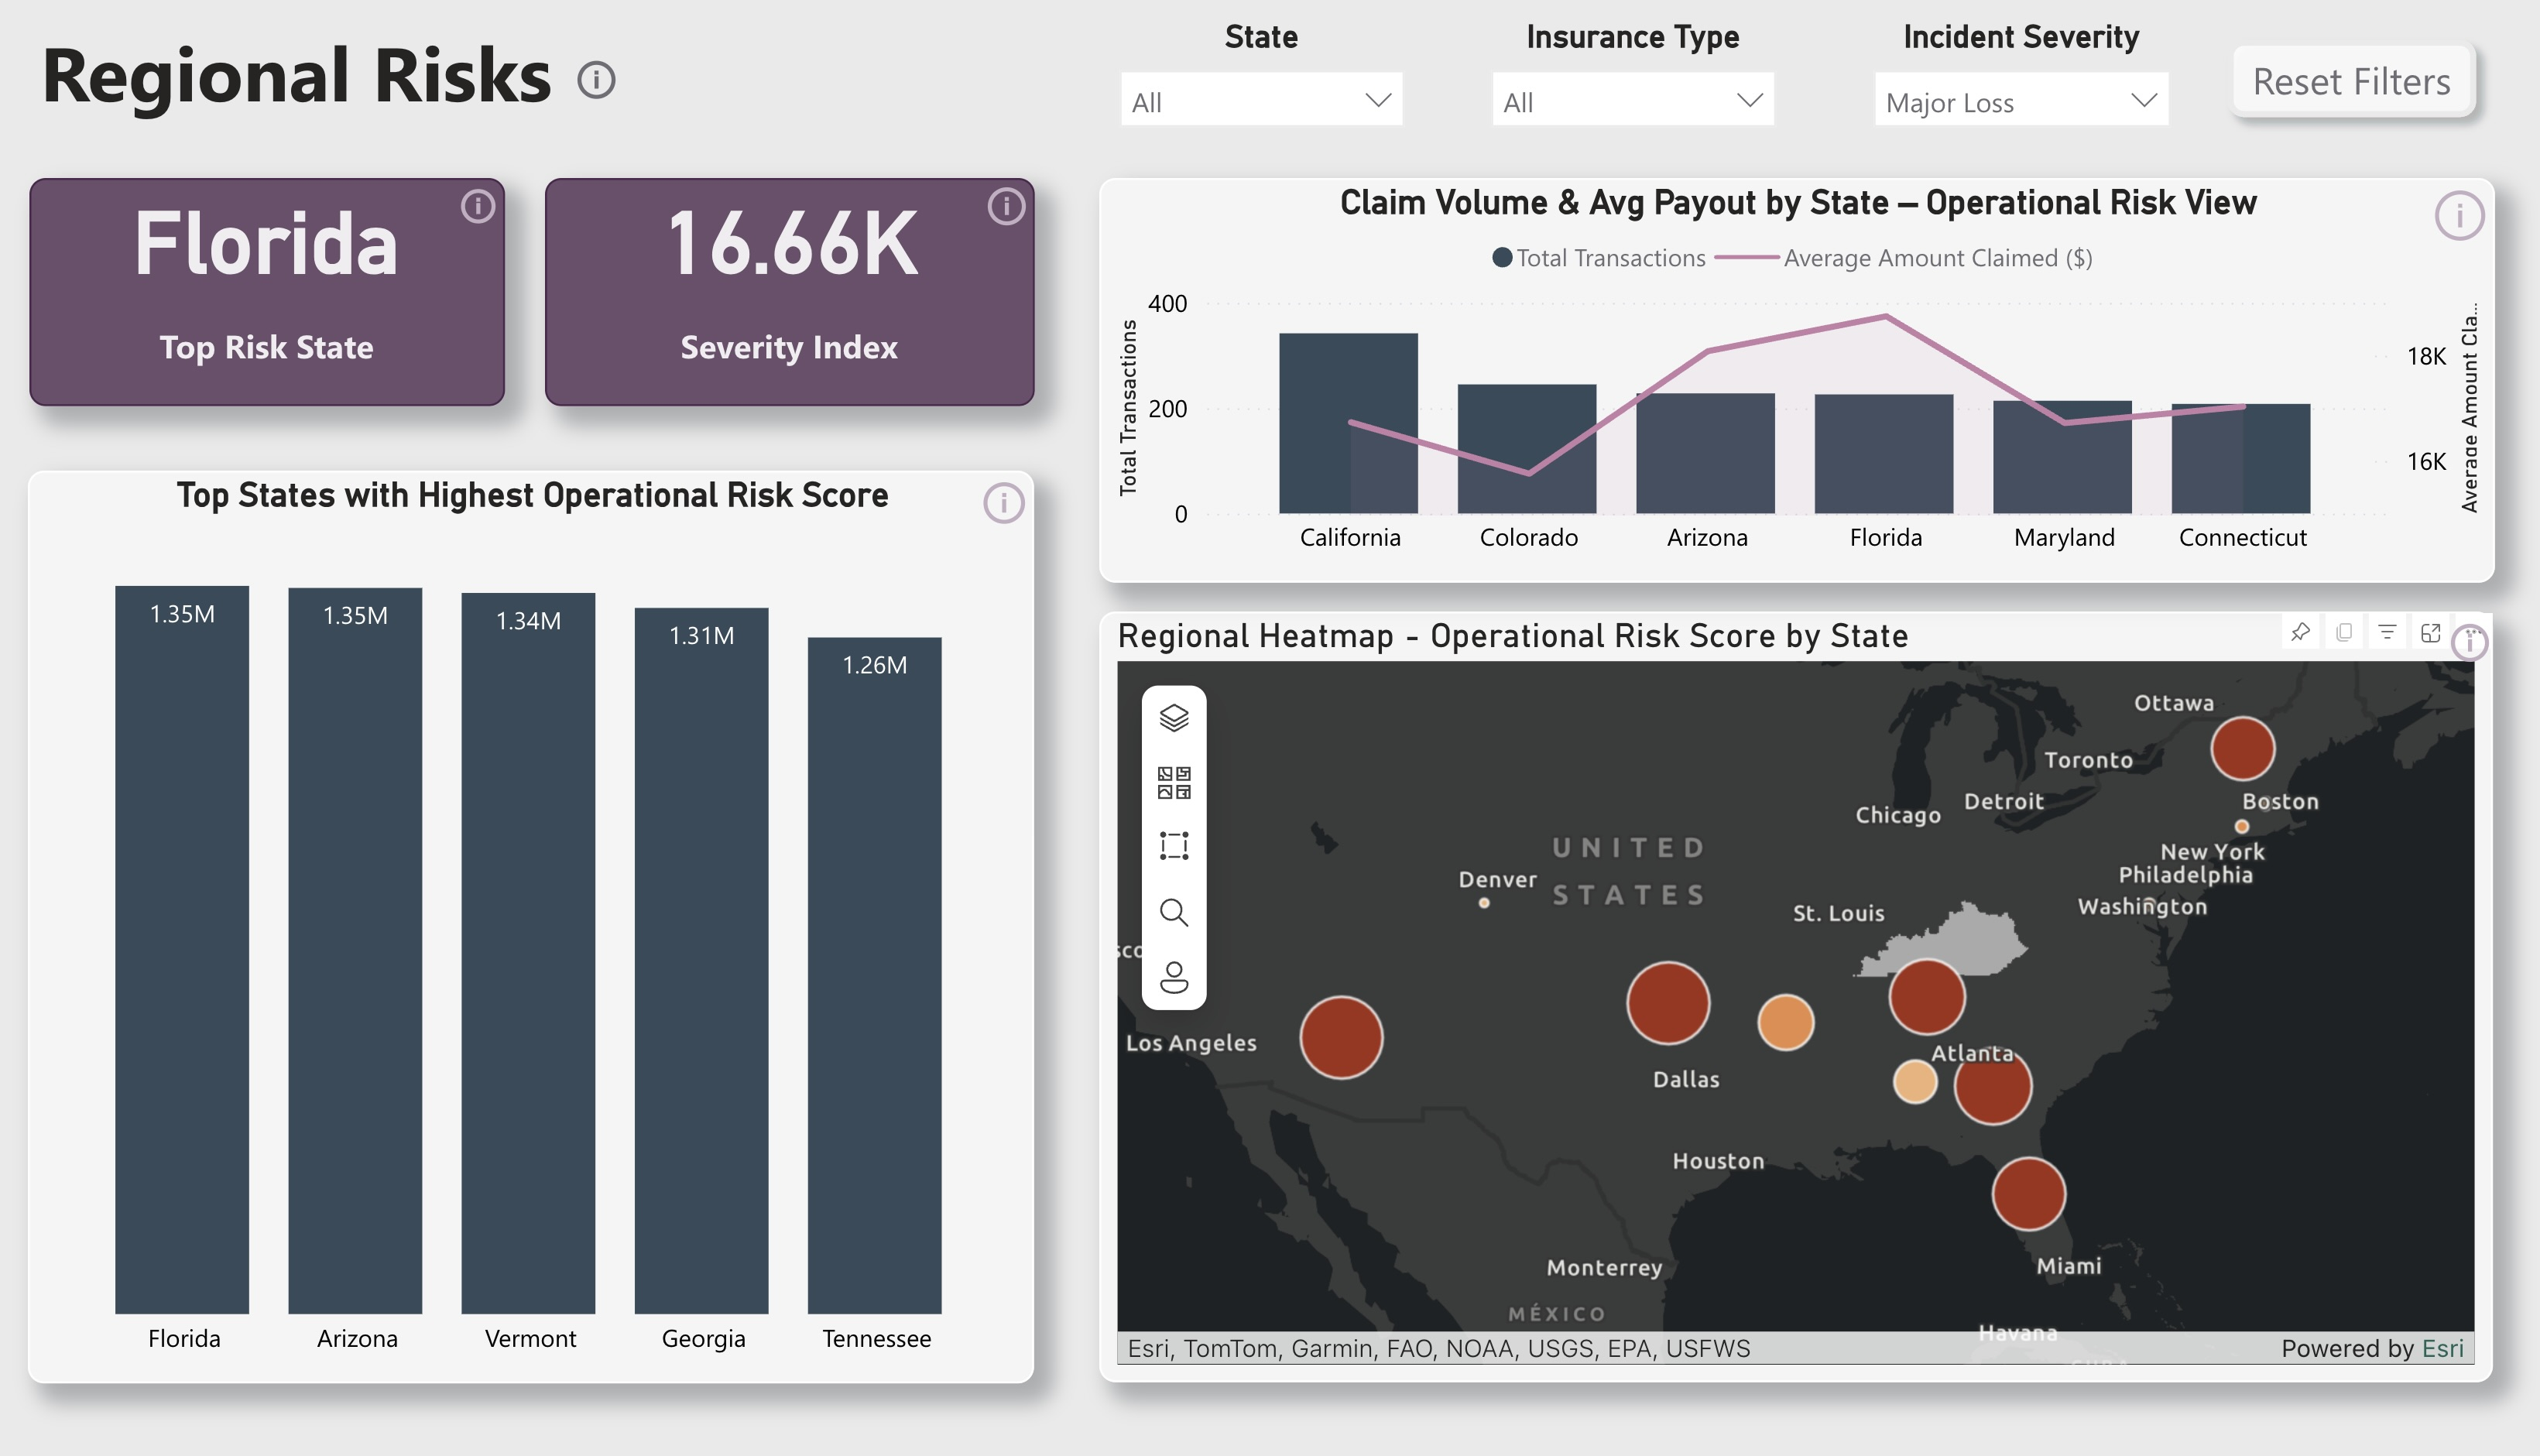

The page's visual inventory and layout, read from the dashboard file:
{"tool":"powerbi","page":{"name":"Regional Risks","canvas":[1280,720],"ordinal":2},"visuals":[{"type":"lineClusteredColumnComboChart","title":"Claim Volume & Avg Payout by State – Operational Risk View","fields":{"Category":["US_State_Lookup.STATE_NAME"],"Y":["CountNonNull(INSURANCE_DATA.TRANSACTION_ID)"],"Y2":["Avg(INSURANCE_DATA.CLAIM_AMOUNT)"]},"box":[544.4,89.9,688,199.4],"z":0},{"type":"slicer","title":"Incident Severity","fields":{"Values":["INSURANCE_DATA.INCIDENT_SEVERITY"]},"box":[915.8,12.9,166.3,66.8],"z":1000},{"type":"textbox","box":[0,7.2,296.5,69.2],"z":2000},{"type":"slicer","title":"Insurance Type","fields":{"Values":["INSURANCE_DATA.INSURANCE_TYPE"]},"box":[727.2,12.9,160.4,66.8],"z":3000},{"type":"esriVisual","title":"Regional Heatmap - Operational Risk Score by State","fields":{"Location":["US_State_Lookup.STATE_NAME"],"Color":["ALL_MEASURES.OPERATIONAL_RISK_SCORE"],"Size":["ALL_MEASURES.INJURY_RATE(%)"]},"box":[544.4,303.9,687.2,380.1],"z":4000},{"type":"clusteredColumnChart","title":"Top States with Highest Operational Risk Score","fields":{"Category":["US_State_Lookup.STATE_NAME"],"Y":["ALL_MEASURES.OPERATIONAL_RISK_SCORE"]},"box":[16.1,234.1,496.1,449.9],"z":5000},{"type":"cardVisual","title":"Top Risk State","fields":{"Data":["ALL_MEASURES.TOP_RISK_STATE"]},"box":[16.5,89.9,234.5,112.6],"z":6000},{"type":"cardVisual","title":"Severity Index","fields":{"Data":["ALL_MEASURES.SEVERITY_INDEX"]},"box":[270.7,89.9,241.7,112.6],"z":7000},{"type":"slicer","title":"State","fields":{"Values":["US_State_Lookup.STATE_NAME"]},"box":[544.6,12.9,160.4,66.8],"z":8000},{"type":"actionButton","box":[1091.5,12.9,140.5,56.2],"z":9000},{"type":"actionButton","box":[282,26.9,27.9,30],"z":10000},{"type":"actionButton","box":[225.2,89.9,25.8,27.9],"z":11000},{"type":"actionButton","box":[484.5,89.9,28.9,27.9],"z":12000},{"type":"actionButton","box":[482.4,234.5,30,32],"z":13000},{"type":"actionButton","box":[1197.3,89.9,35.1,37.2],"z":14000},{"type":"actionButton","box":[1205.6,303.7,27.9,31],"z":15000}]}

Visuals, with their boxes in screenshot pixels (x1, y1, x2, y2), scaled from the page's 1280x720 canvas onto the 2540x1456 screenshot:
"Claim Volume & Avg Payout by State – Operational Risk View" lineClusteredColumnComboChart: (1080,182,2446,585)
"Incident Severity" slicer: (1817,26,2148,161)
textbox: (0,15,588,155)
"Insurance Type" slicer: (1443,26,1761,161)
"Regional Heatmap - Operational Risk Score by State" esriVisual: (1080,615,2444,1383)
"Top States with Highest Operational Risk Score" clusteredColumnChart: (32,474,1016,1383)
"Top Risk State" cardVisual: (33,182,498,409)
"Severity Index" cardVisual: (537,182,1016,409)
"State" slicer: (1081,26,1399,161)
actionButton: (2166,26,2445,140)
actionButton: (560,54,615,115)
actionButton: (447,182,498,238)
actionButton: (961,182,1019,238)
actionButton: (958,474,1016,539)
actionButton: (2376,182,2446,257)
actionButton: (2392,614,2448,677)
